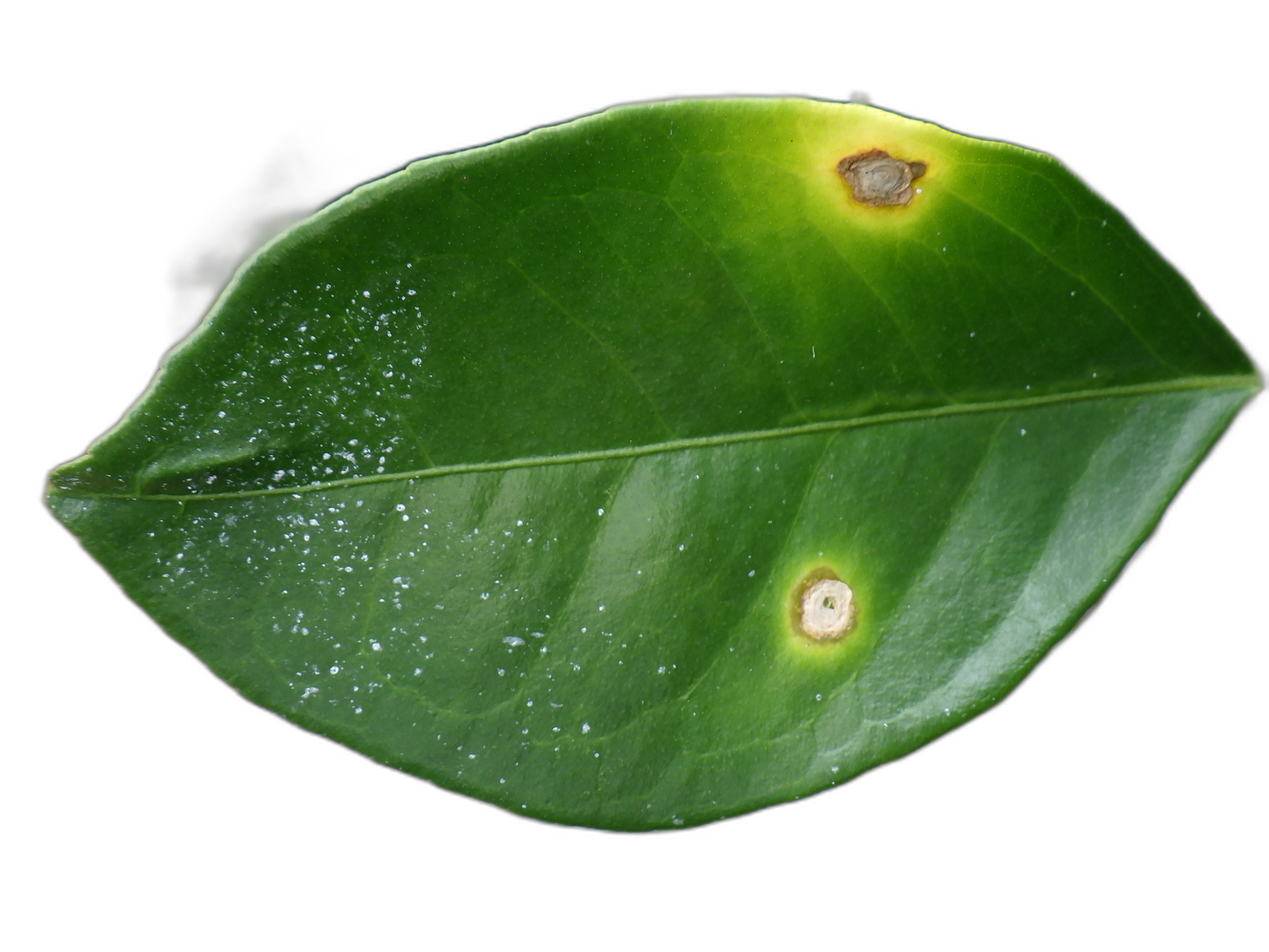Canker: (836, 148, 928, 207), (797, 570, 858, 641)
